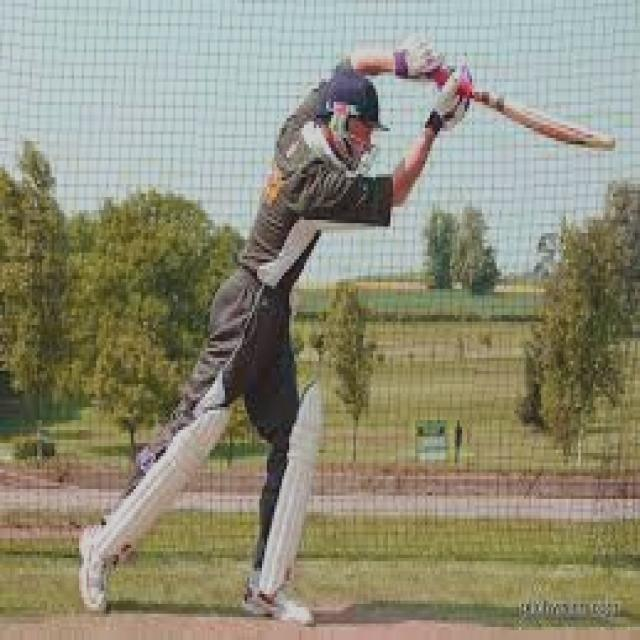toe: (569, 115, 620, 164)
